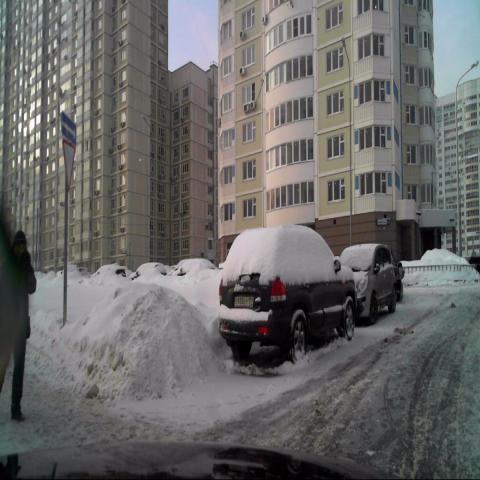5_7_1: (60, 112, 76, 145)
